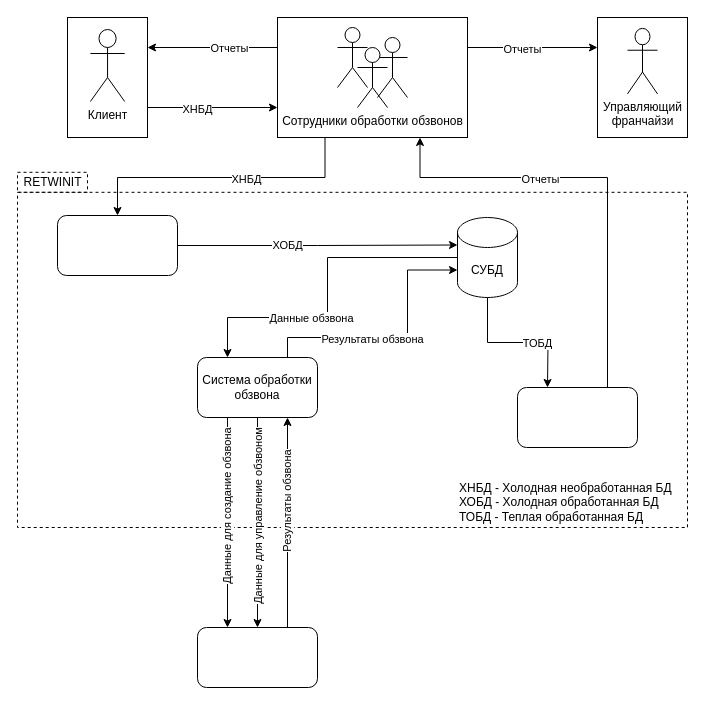
The diagram is 705 pixels wide and 705 high, and some of its shapes have lost their labels. Each missing label, with the box of its shape:
TWIN: (196, 626, 318, 688)
Система анализа обзвона: (516, 386, 638, 448)
Система подготовки данных: (56, 214, 178, 276)
